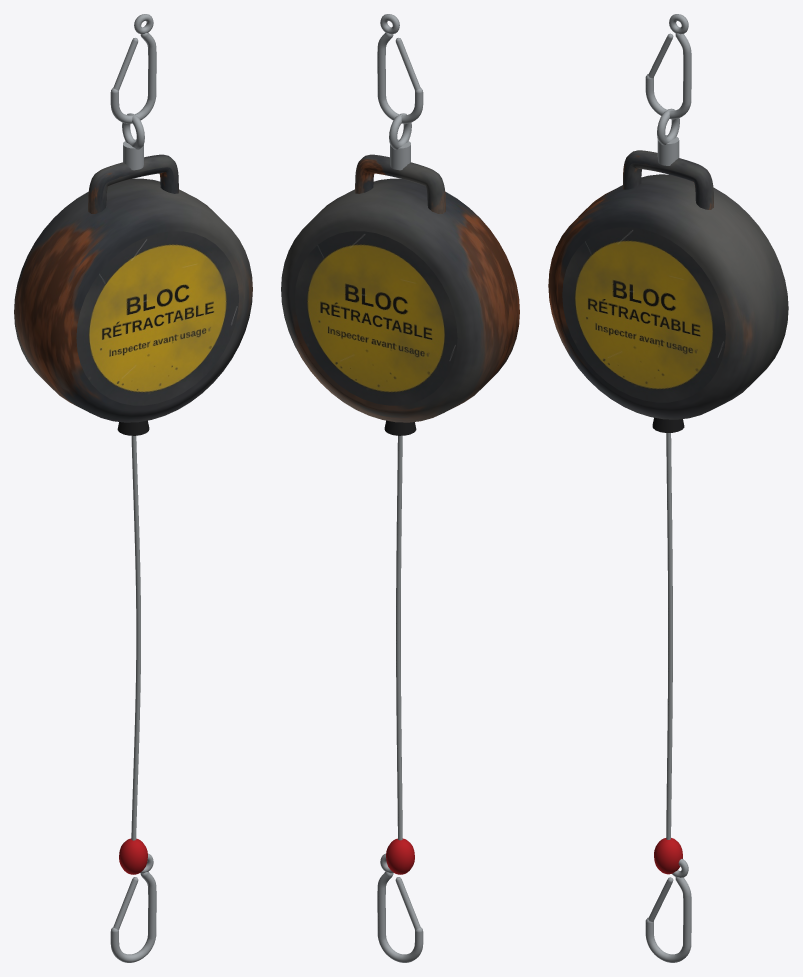
Rendered from SM_Bloc_Retractable.glb.
3 views of the same model, side by side, from view 1: azimuth 30°, elevation 25°; view 2: azimuth 150°, elevation 25°; view 3: azimuth 330°, elevation 25° (orthographic).
Visible parts, largest first — view 1: SM_Bloc_Retractable; view 2: SM_Bloc_Retractable; view 3: SM_Bloc_Retractable.
Boxes of the visible parts, x1,y1,x2,y2 form: SM_Bloc_Retractable: (14,14,252,962); SM_Bloc_Retractable: (281,14,519,962); SM_Bloc_Retractable: (548,14,788,962).
Bounding box in the file's own units: 0.2286 × 0.9897 × 0.0922.
Materials: 6 (2 with a texture image).
